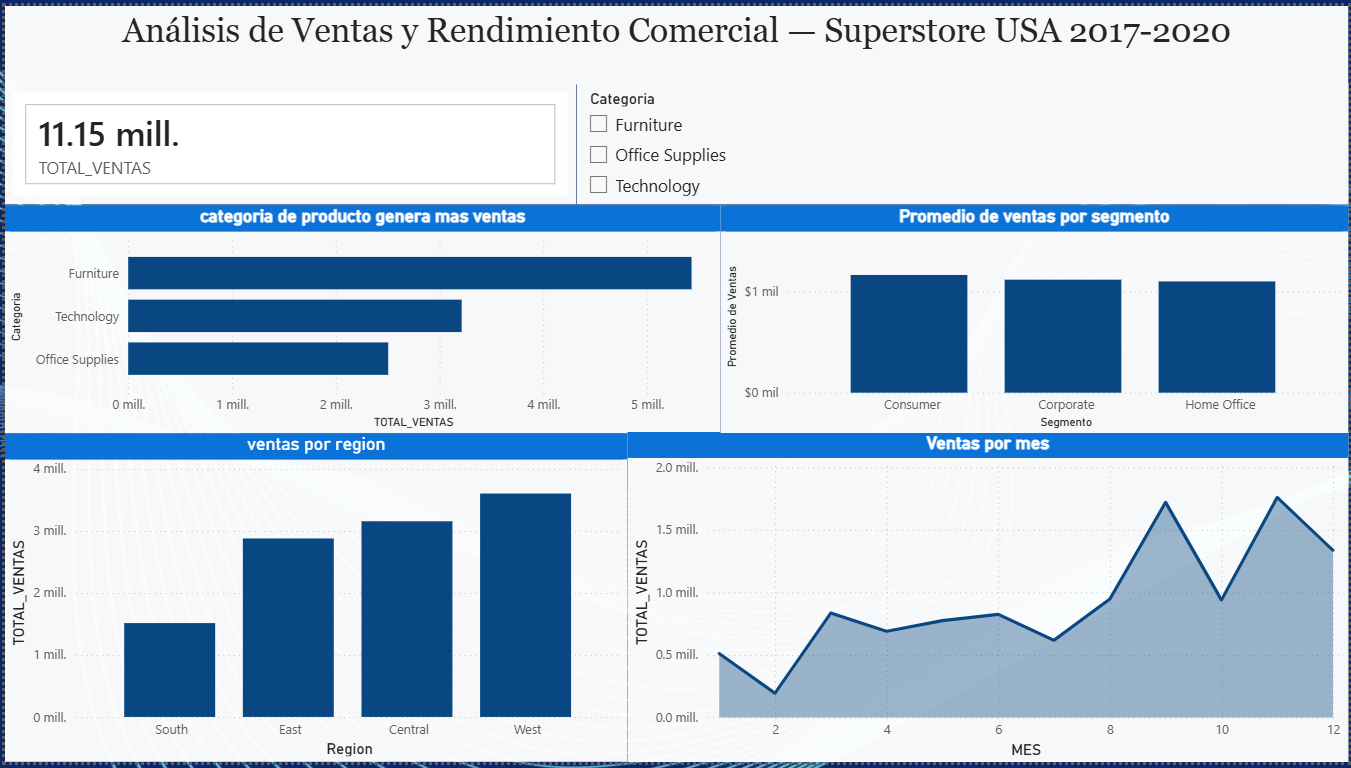

What the dashboard file says about the page in this screenshot:
{"tool":"powerbi","page":{"name":"Página 1","canvas":[1280,720],"ordinal":0},"visuals":[{"type":"cardVisual","fields":{"Data":["ventas.TOTAL_VENTAS"]},"box":[0,74.9,543.9,114.5],"z":0},{"type":"barChart","title":"categoria de producto genera mas ventas","fields":{"Y":["ventas.TOTAL_VENTAS"],"Category":["ventas.Categoria"]},"box":[0,189.6,681.6,216.9],"z":1},{"type":"clusteredColumnChart","title":"ventas por region","fields":{"Y":["ventas.TOTAL_VENTAS"],"Category":["ventas.Region"]},"box":[0,406.6,592.7,312.6],"z":2},{"type":"areaChart","title":"Ventas por mes","fields":{"Y":["ventas.TOTAL_VENTAS"],"Category":["ventas.MES"]},"box":[592.6,405.9,686.6,314.5],"z":3},{"type":"slicer","fields":{"Values":["ventas.Categoria"]},"box":[543.9,74.9,735.4,114.5],"z":4},{"type":"clusteredColumnChart","title":"Promedio de ventas por segmento","fields":{"Category":["ventas.Segmento"],"Y":["Avg(ventas.Ventas)"]},"box":[681.6,189.6,597.9,216.9],"z":5},{"type":"textbox","box":[0,0,1279.3,74.9],"z":6}]}

Visuals, with their boxes in screenshot pixels (x1, y1, x2, y2), scaled from the page's 1280x720 canvas onto the 1351x768 screenshot:
cardVisual - ventas.TOTAL_VENTAS: bbox=[0, 80, 574, 202]
"categoria de producto genera mas ventas" barChart: bbox=[0, 202, 719, 434]
"ventas por region" clusteredColumnChart: bbox=[0, 434, 626, 767]
"Ventas por mes" areaChart: bbox=[625, 433, 1350, 767]
slicer - ventas.Categoria: bbox=[574, 80, 1350, 202]
"Promedio de ventas por segmento" clusteredColumnChart: bbox=[719, 202, 1350, 434]
textbox: bbox=[0, 0, 1350, 80]
